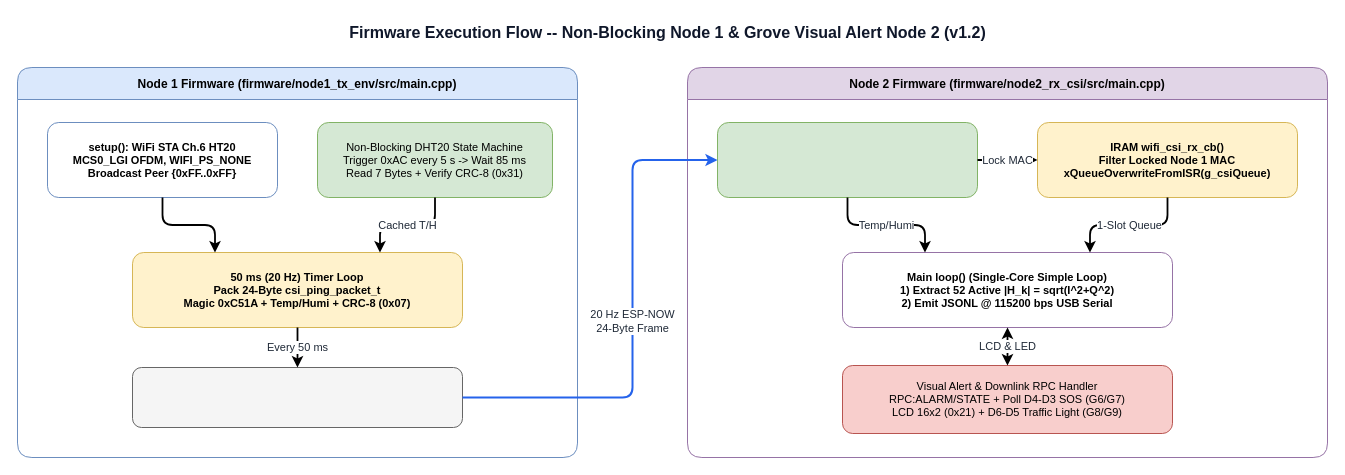
This 1345x475 diagram has some shape labels left out. The centre of each missing label's shape, as x and y in pixels:
"esp_now_send() + GPIO45 LED Heartbeat Arduino-ESP32 v2.x & v3.x Compatible" belongs at (x=297, y=397).
"onEspNowDataRecv() Verify 0xC51A + CRC-8 Auto-Pair MAC + Save Temp/Humi" belongs at (x=847, y=160).
